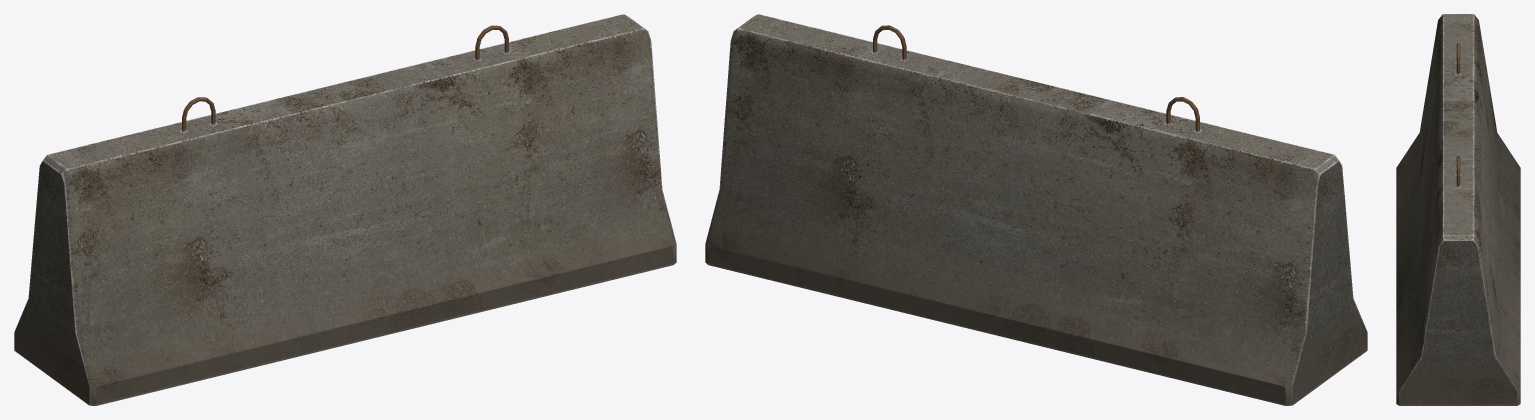
File: jersey.glb
3 views of the same model, side by side, from view 1: azimuth 30°, elevation 25°; view 2: azimuth 150°, elevation 25°; view 3: azimuth 270°, elevation 25° (orthographic). The views are drawn at different scales.
Visible parts, largest first — view 1: jersey; view 2: jersey; view 3: jersey.
Part boxes in pixels (box(x1,y1,x2,y2)): jersey: box(14, 14, 676, 405); jersey: box(705, 14, 1367, 405); jersey: box(1396, 14, 1520, 405).
Size of the model in its own units: 2.4 by 0.9575 by 0.5599.
1 material, 1 textured.
